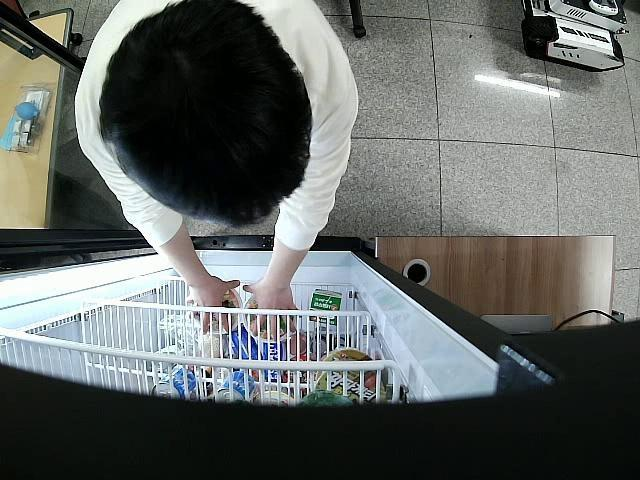09_yukGaeJang: (242, 293, 296, 341), (208, 288, 242, 333)
